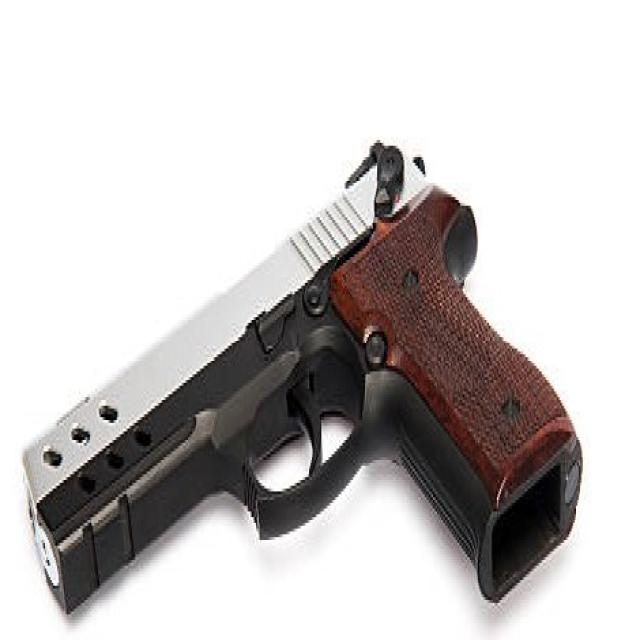pistol: (19, 129, 590, 622)
